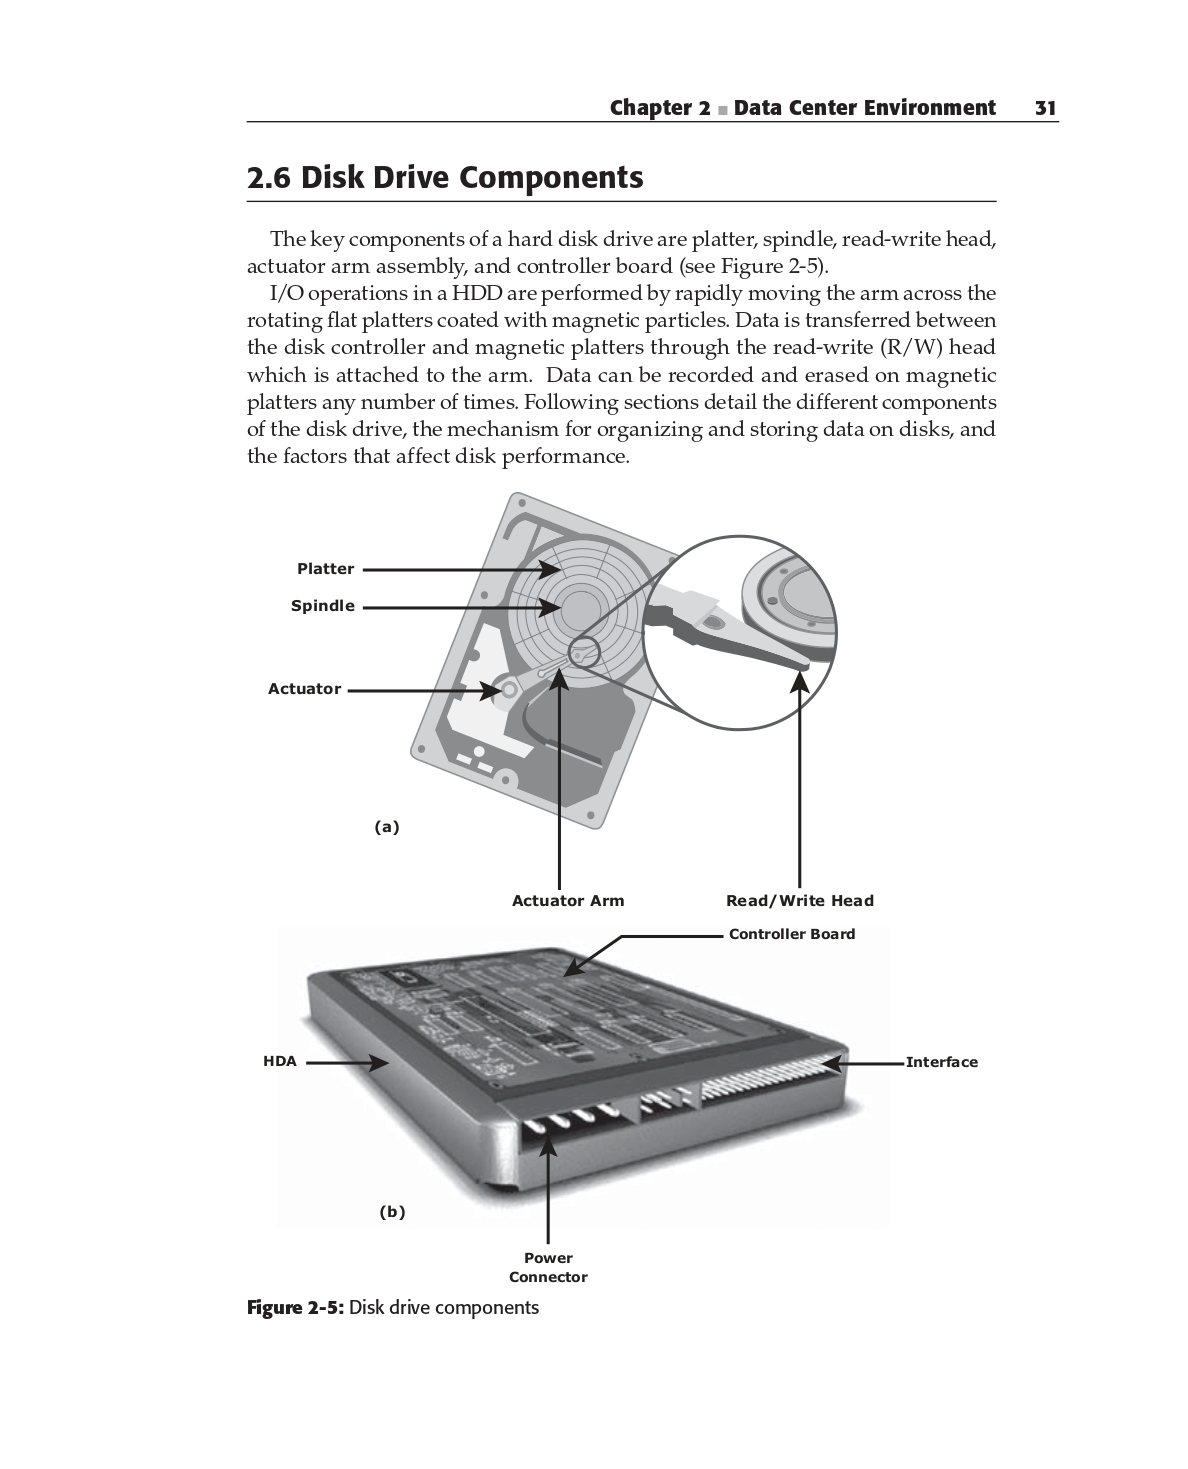Image: (307, 482, 873, 844), (286, 932, 914, 1200)
Paragraph: (234, 207, 1028, 482), (222, 143, 666, 205), (599, 79, 1075, 122), (234, 1285, 547, 1326)
